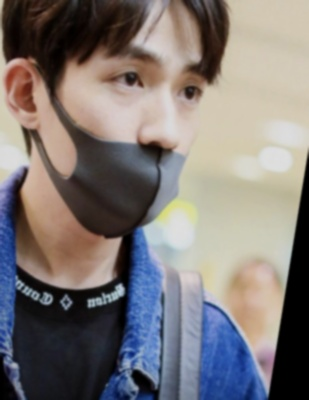mask_weared_incorrect: (44, 1, 209, 229)
